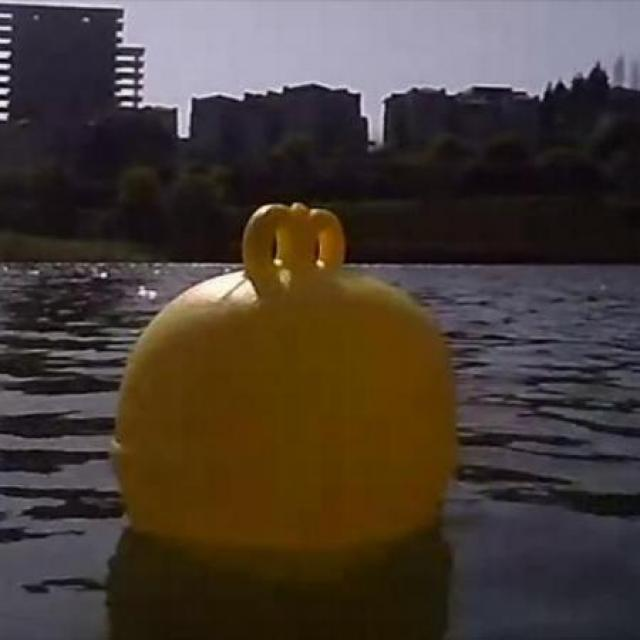buoy: (110, 202, 460, 546)
